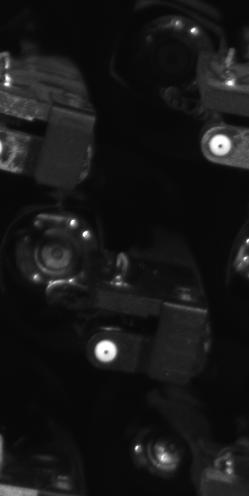fiber: (89, 336, 124, 367), (205, 129, 238, 159)
